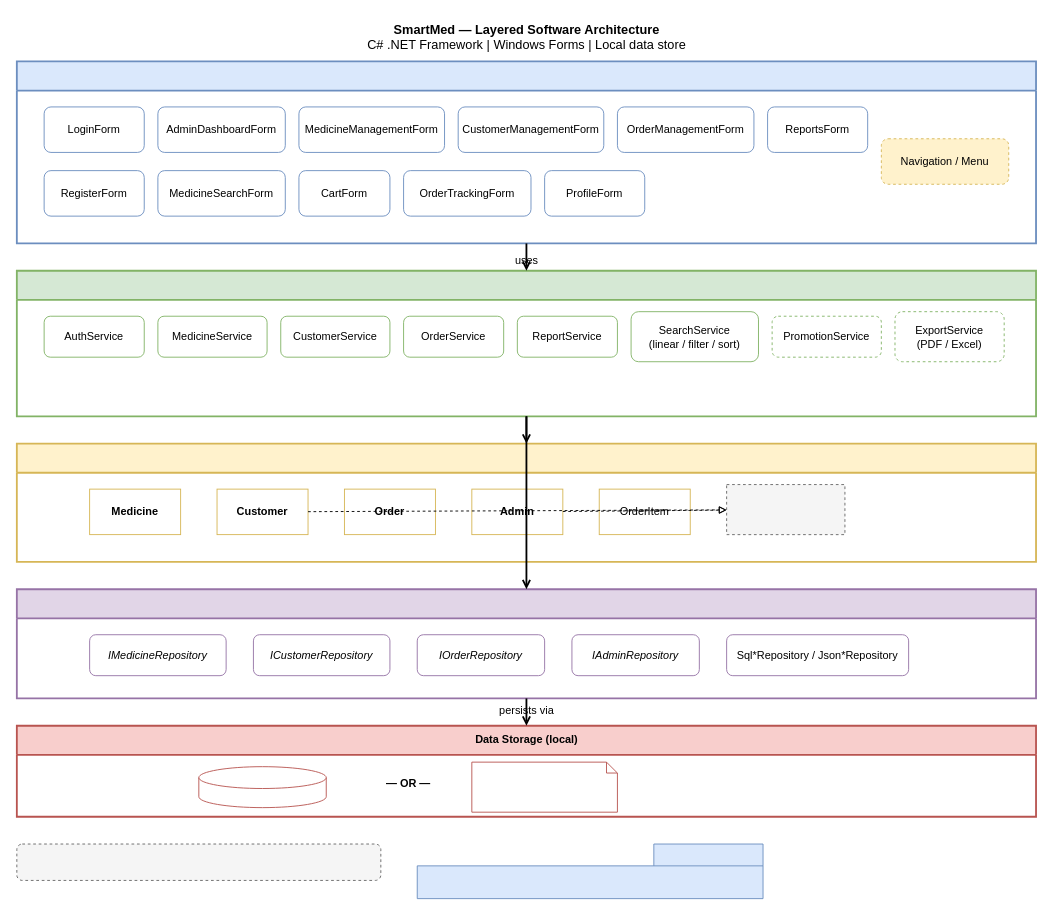
Some shapes in this 1052 by 915 pixel diagram are drawn without their labels. Each missing label, with the box of its shape:
<<interface>> IAuthenticatable: (726, 484, 845, 535)
Business / Service Layer: (15, 269, 1036, 417)
Cross-cutting: ValidationHelper, ExceptionHandler, Program.cs: (16, 843, 381, 880)
Data Access Layer (Repositories): (15, 588, 1036, 699)
Domain Model Layer (core OOP entities): (15, 442, 1036, 562)
JSON / XML Data Files (Data/*.json): (471, 761, 617, 812)
Presentation Layer — Windows Forms (separate Admin & Customer UI): (15, 60, 1036, 244)
SQL Server Database (SmartMedDb): (198, 766, 326, 808)
Visual Studio 2015+ Solution SmartMed.sln → SmartMed (WinForms .NET Framework): (416, 843, 763, 899)
